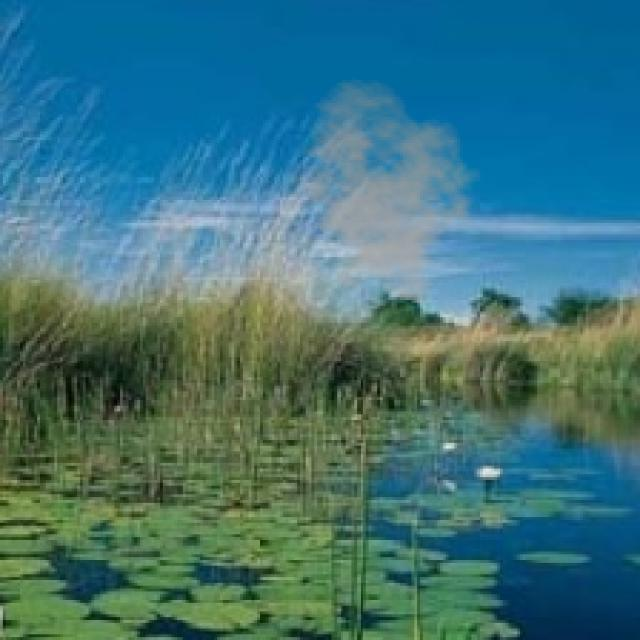Smoke: (283, 77, 483, 306)
